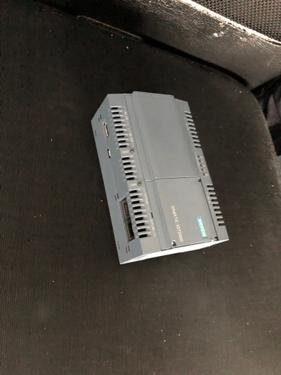device: (91, 92, 230, 265)
